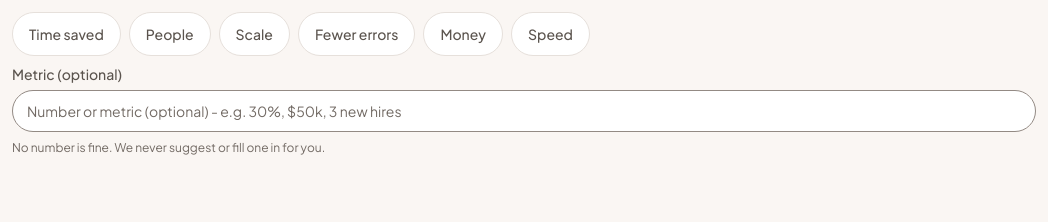
Scenario: MetricPrompts › drops the chip and its question once the template is replaced with other text
The width and height of the screenshot is (1048, 222).
Click the button "Speed": click(550, 34) [511,12,590,56]
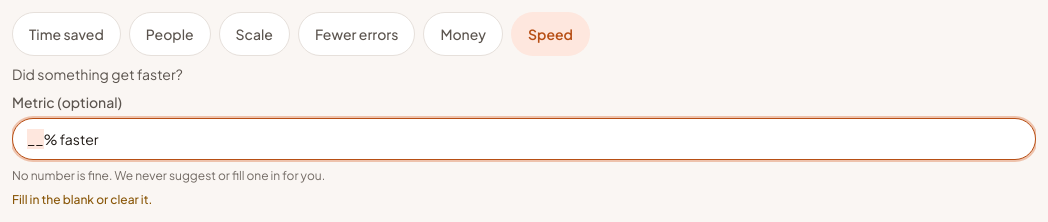
Replace the text in the field with "$2k saved": (524, 139) [12,118,1036,160]
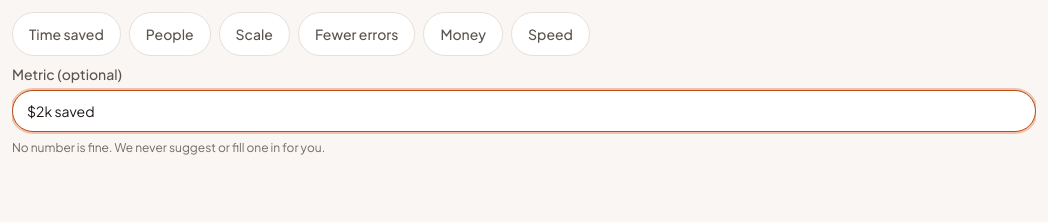
expect the text "Did something get faster?" is gone: met
